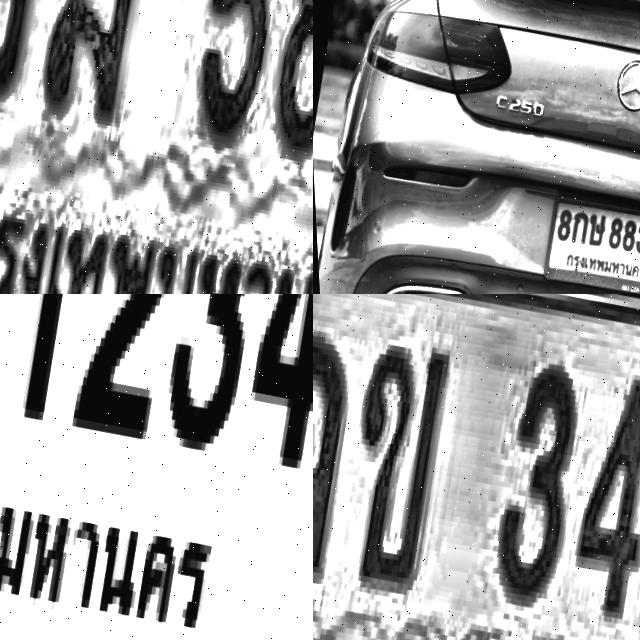license-plate: (313, 294, 640, 640), (0, 294, 313, 640), (0, 0, 313, 294), (531, 188, 640, 294)
